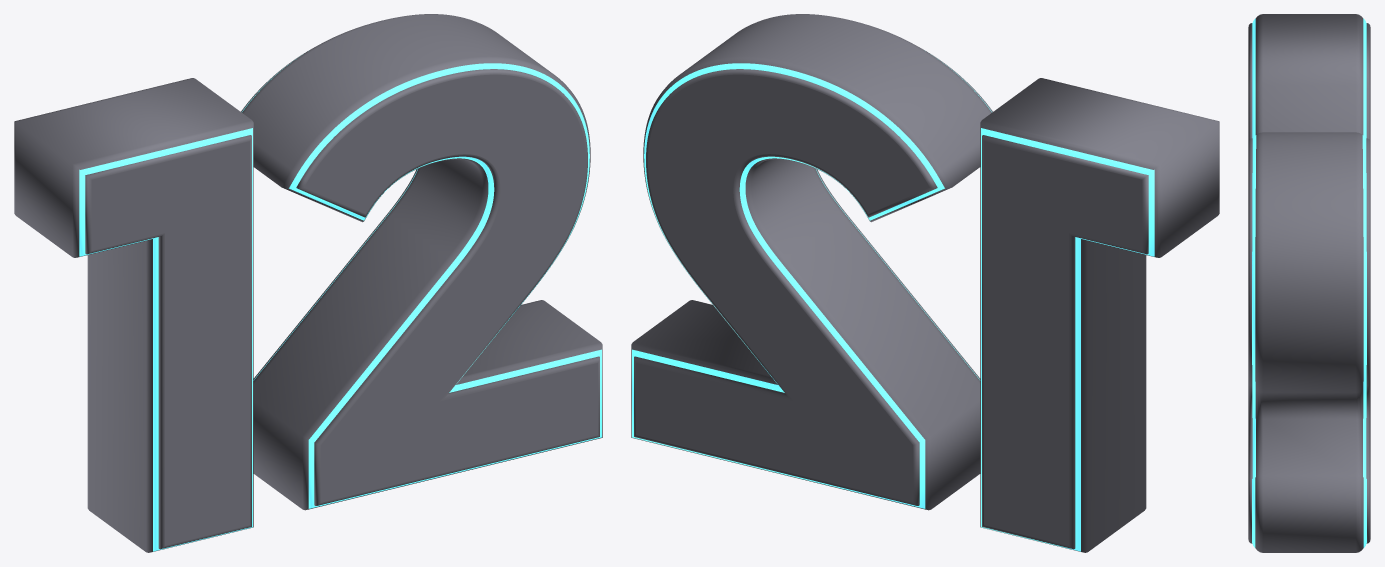
The model's file is Number 12.fbx.
The picture shows the model from 3 angles, left to right: view 1: azimuth 30°, elevation 25°; view 2: azimuth 150°, elevation 25°; view 3: azimuth 270°, elevation 25°; orthographic projection. The views are drawn at different scales.
Parts seen in each view (by area): view 1: N_1_smaller, N_1_side, N_1_border; view 2: N_1_smaller, N_1_side, N_1_border; view 3: N_1_side, N_1_smaller, N_1_border.
Part boxes in pixels (x1=…): N_1_smaller: x1=85, y1=47, x2=599, y2=549; N_1_side: x1=14, y1=14, x2=602, y2=552; N_1_border: x1=79, y1=59, x2=601, y2=551; N_1_smaller: x1=634, y1=47, x2=1148, y2=549; N_1_side: x1=631, y1=14, x2=1219, y2=552; N_1_border: x1=632, y1=59, x2=1154, y2=551; N_1_side: x1=1255, y1=14, x2=1363, y2=552; N_1_smaller: x1=1248, y1=23, x2=1370, y2=543; N_1_border: x1=1252, y1=18, x2=1366, y2=547.
Bounding box in the file's own units: 75.11 × 56.66 × 18.4.
